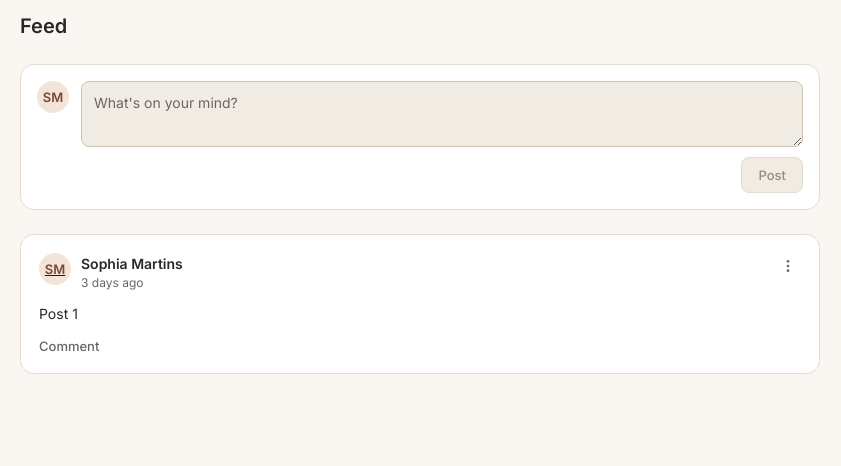
Test: FeedPage › deletes a post without comments at once and moves focus to the heading
expect the text "Post 1" is shown: met, box [39,305,78,322]
Click the button named "Post actions" at {"x": 788, "y": 266}, box [775,253,801,279]
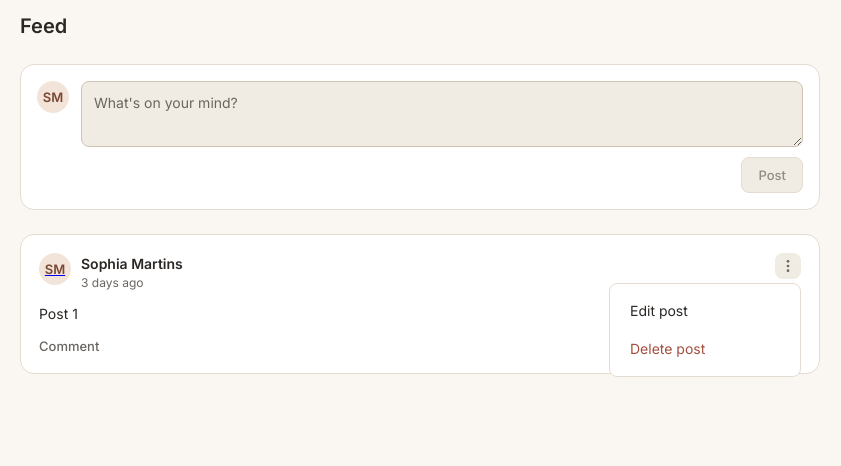
Click the menu item "Delete post" at {"x": 668, "y": 348}, box [630,340,705,357]
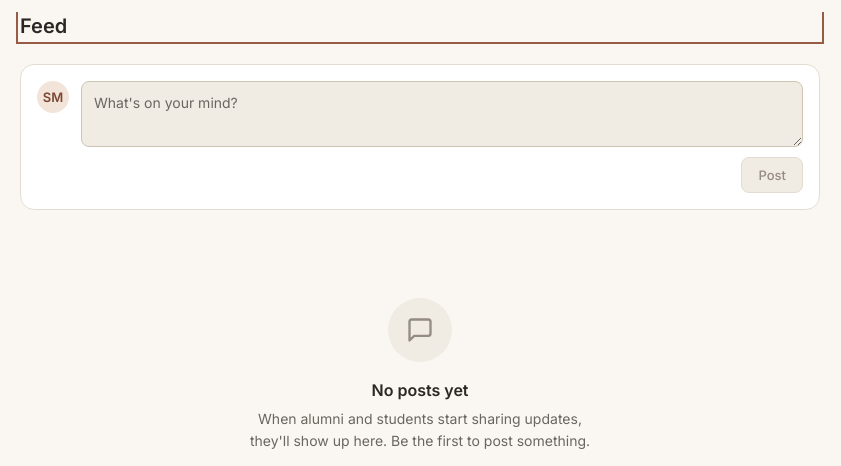
expect the text "Post 1" is gone: met
